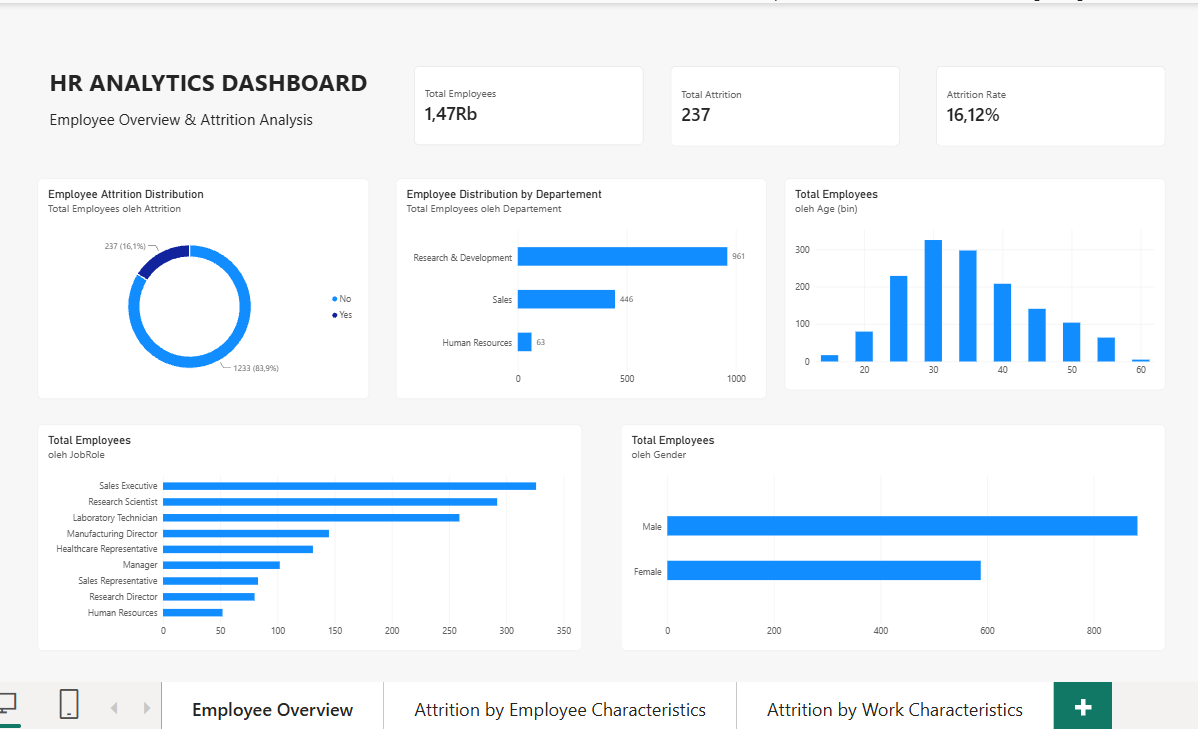

What the dashboard file says about the page in this screenshot:
{"tool":"powerbi","page":{"name":"Employee Overview","canvas":[1920,1080],"ordinal":0},"visuals":[{"type":"donutChart","title":"Employee Attrition Distribution","fields":{"Category":["HR_Employee_Attrition_Clean.Attrition"],"Y":["HR_Employee_Attrition_Clean.Total Employees"]},"box":[59.6,279.2,527.3,350.7],"z":0},{"type":"clusteredBarChart","title":"Employee Distribution by Departement","fields":{"Category":["HR_Employee_Attrition_Clean.Department"],"Y":["HR_Employee_Attrition_Clean.Total Employees"]},"box":[629.9,279.2,589.3,350.7],"z":1000},{"type":"cardVisual","fields":{"Data":["HR_Employee_Attrition_Clean.Total Employees"]},"box":[658.5,100.2,365,126.5],"z":2000},{"type":"cardVisual","fields":{"Data":["HR_Employee_Attrition_Clean.Total Attrition"]},"box":[1066.5,100.2,365,128.8],"z":3000},{"type":"cardVisual","fields":{"Data":["HR_Employee_Attrition_Clean.Attrition Rate"]},"box":[1488.8,100.2,365,128.8],"z":4000},{"type":"clusteredBarChart","fields":{"Category":["HR_Employee_Attrition_Clean.Gender"],"Y":["HR_Employee_Attrition_Clean.Total Employees"]},"box":[987.8,670.4,866.1,360.3],"z":6000},{"type":"clusteredBarChart","fields":{"Category":["HR_Employee_Attrition_Clean.JobRole"],"Y":["HR_Employee_Attrition_Clean.Total Employees"]},"box":[59.6,670.4,866.1,360.3],"z":7000},{"type":"clusteredColumnChart","fields":{"Category":["HR_Employee_Attrition_Clean.Age (bin)"],"Y":["HR_Employee_Attrition_Clean.Total Employees"]},"box":[1247.8,279.2,606,336.4],"z":8000},{"type":"textbox","box":[78.7,100.2,606,298.2],"z":9000}]}

Visuals, with their boxes on the page's 1920x1080 design canvas (x1, y1, x2, y2). These are canvas units, not pixel positions in the 1198x729 screenshot, which may show the page scaled, cropped or inside an application window:
"Employee Attrition Distribution" donutChart: locate(60, 279, 587, 630)
"Employee Distribution by Departement" clusteredBarChart: locate(630, 279, 1219, 630)
cardVisual - HR_Employee_Attrition_Clean.Total Employees: locate(658, 100, 1024, 227)
cardVisual - HR_Employee_Attrition_Clean.Total Attrition: locate(1066, 100, 1432, 229)
cardVisual - HR_Employee_Attrition_Clean.Attrition Rate: locate(1489, 100, 1854, 229)
clusteredBarChart - HR_Employee_Attrition_Clean.Gender x HR_Employee_Attrition_Clean.Total Employees: locate(988, 670, 1854, 1031)
clusteredBarChart - HR_Employee_Attrition_Clean.JobRole x HR_Employee_Attrition_Clean.Total Employees: locate(60, 670, 926, 1031)
clusteredColumnChart - HR_Employee_Attrition_Clean.Age (bin) x HR_Employee_Attrition_Clean.Total Employees: locate(1248, 279, 1854, 616)
textbox: locate(79, 100, 685, 398)
